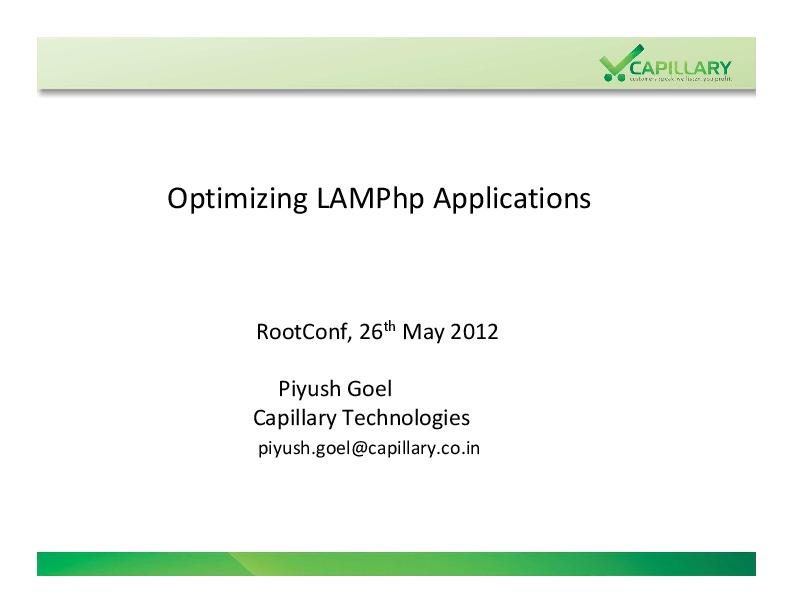subtitle: (221, 304, 542, 490), (156, 166, 639, 240)
title: (593, 36, 750, 94)
